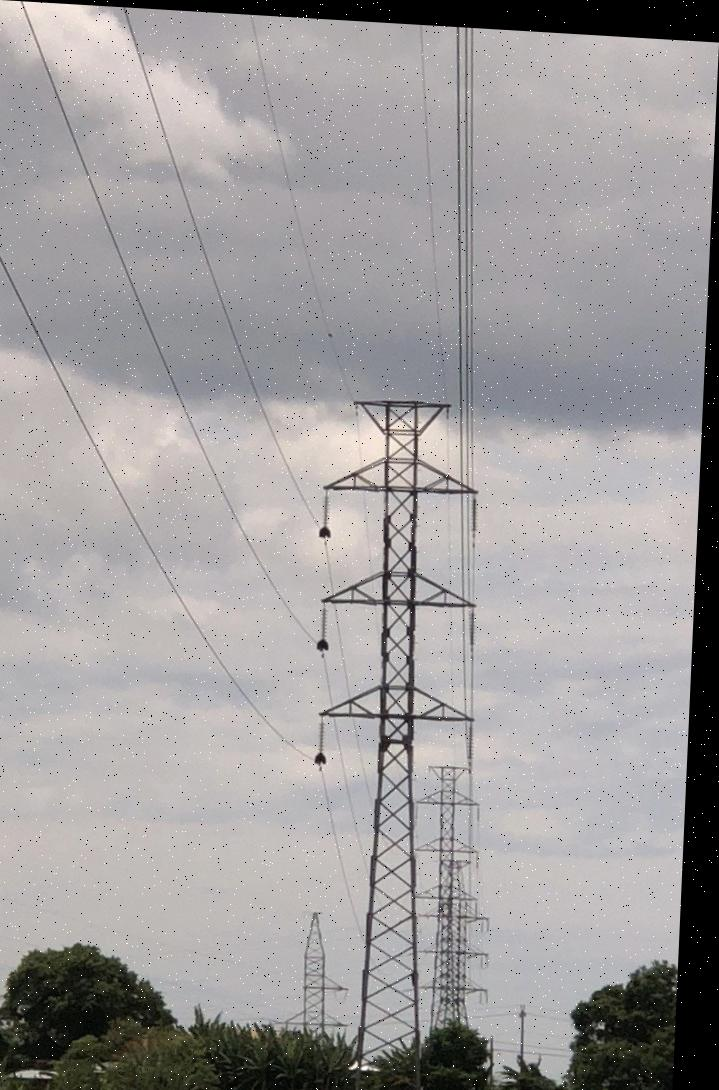tower: (275, 389, 493, 1090)
